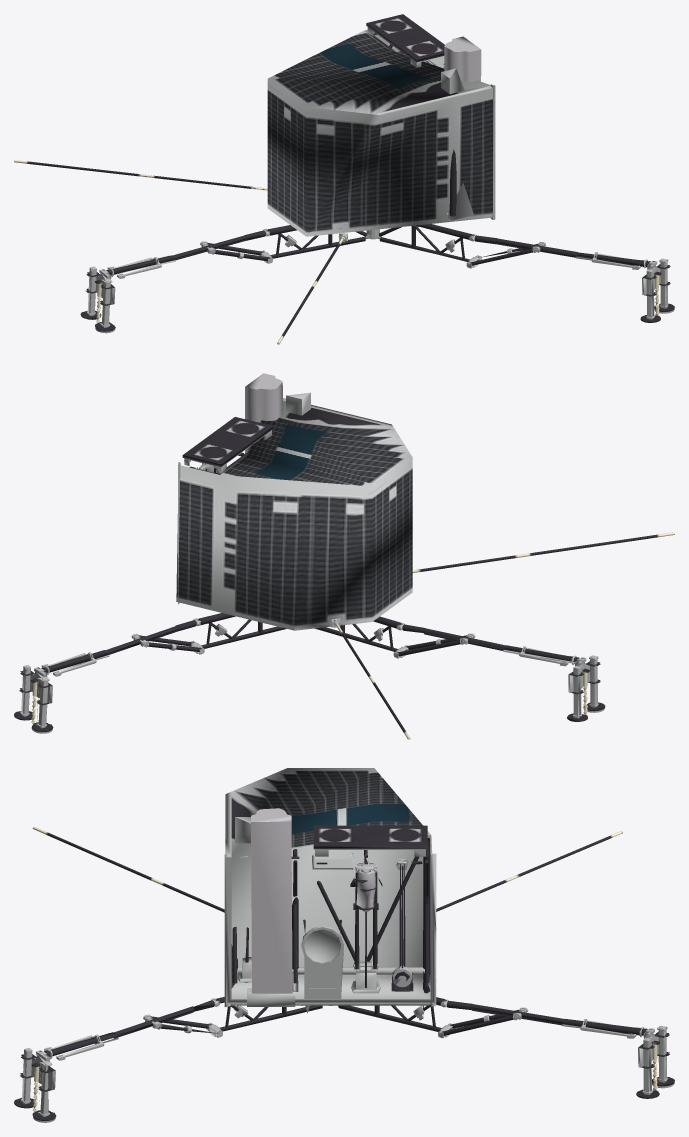
Rendered from philae-low.glb.
The picture shows the model from 3 angles, top to bottom: view 1: azimuth 30°, elevation 25°; view 2: azimuth 150°, elevation 25°; view 3: azimuth 270°, elevation 25°; orthographic projection. The views are drawn at different scales.
Parts seen in each view (by area): view 1: philae; view 2: philae; view 3: philae.
Part boxes in pixels (<box>): philae: <box>14,14,674,344</box>; philae: <box>14,373,674,739</box>; philae: <box>14,768,674,1122</box>.
Bounding box in the file's own units: 279 × 126 × 308.
Materials: 1 (1 with a texture image).
